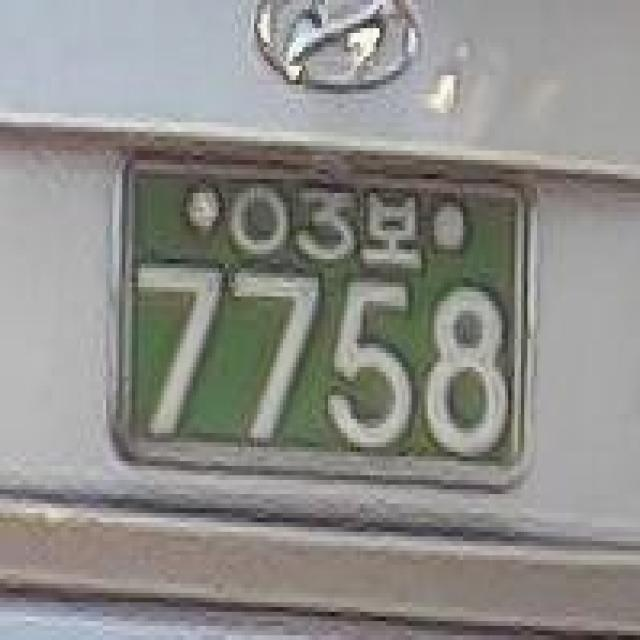illegal_plate: (88, 112, 554, 534)
